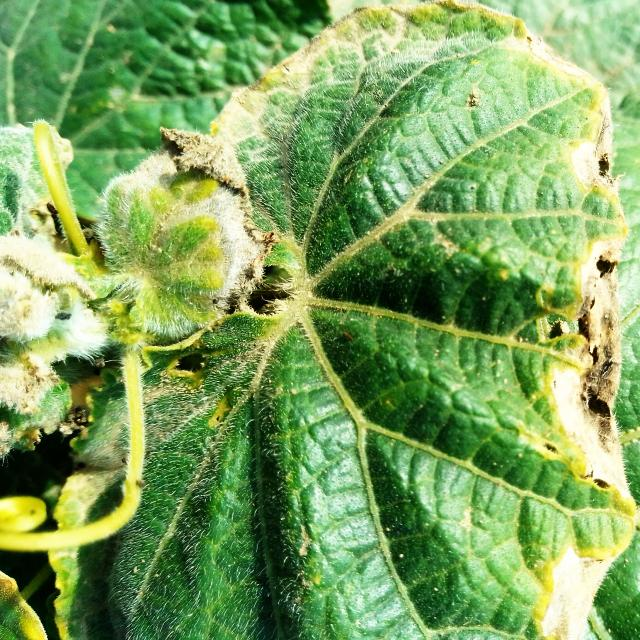Gummy-Stem-Blight: (517, 28, 631, 495), (155, 127, 282, 318), (537, 542, 617, 640)
